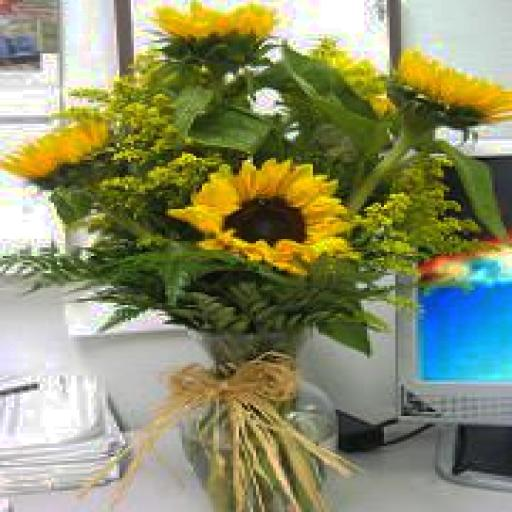sunflower: (173, 156, 350, 269), (387, 53, 512, 130), (156, 4, 282, 49), (168, 152, 170, 154)
